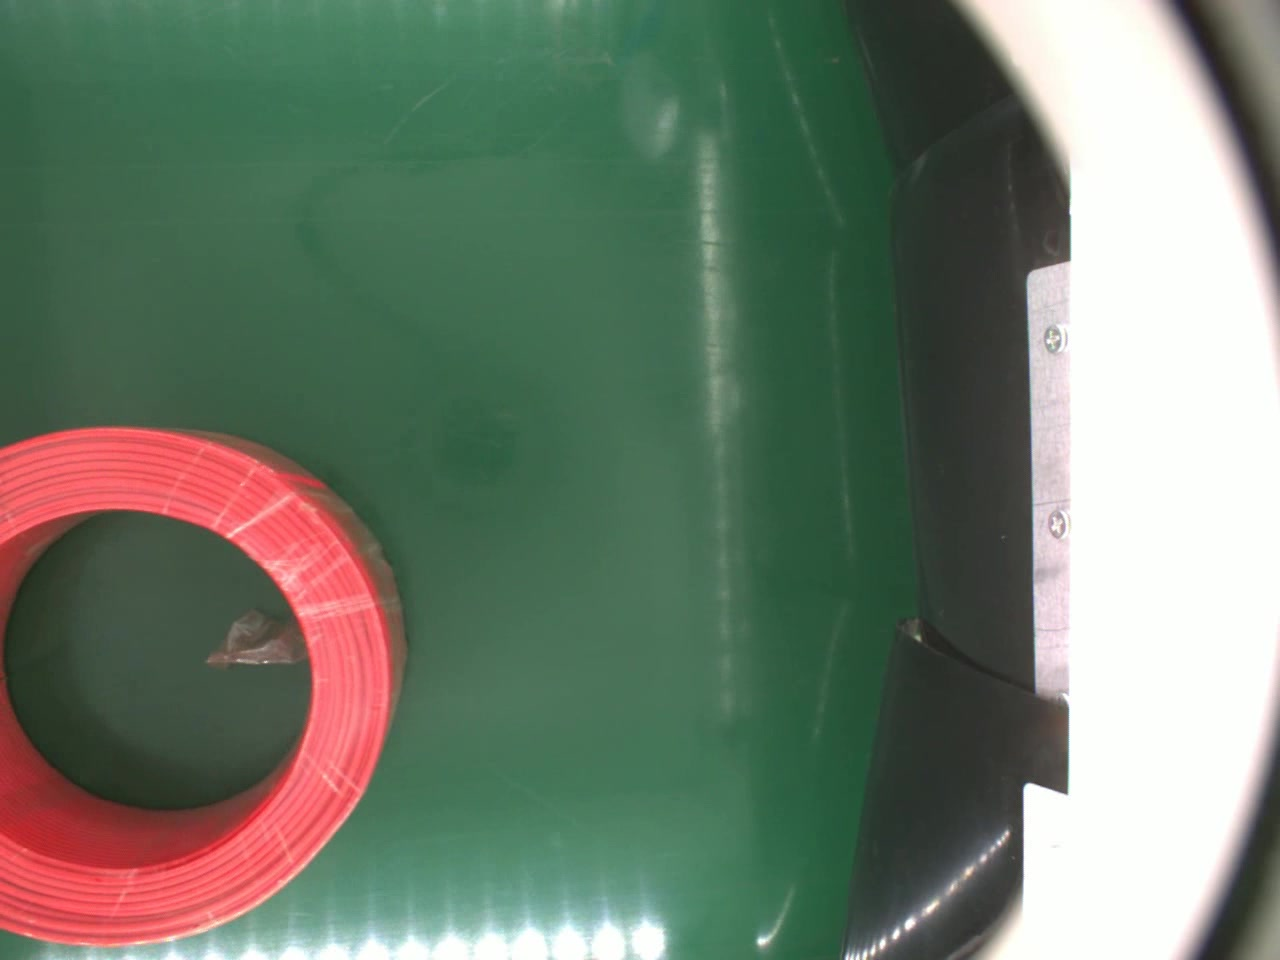red: (0, 425, 407, 948)
